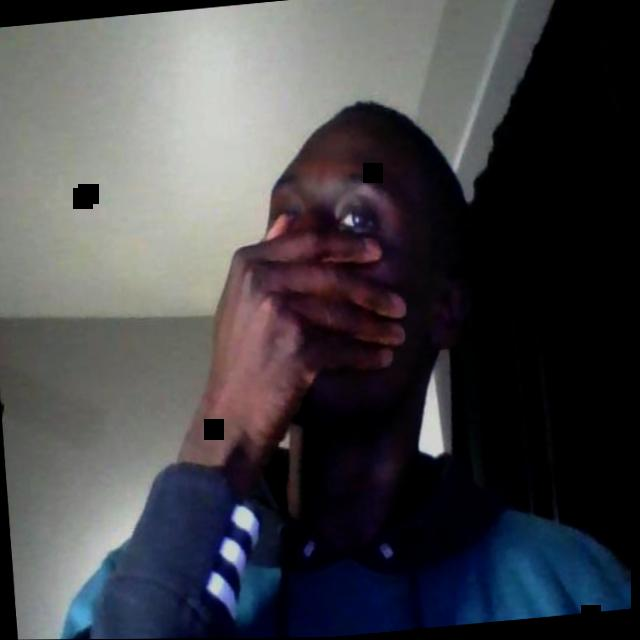NO-Mask: (254, 133, 451, 438)
